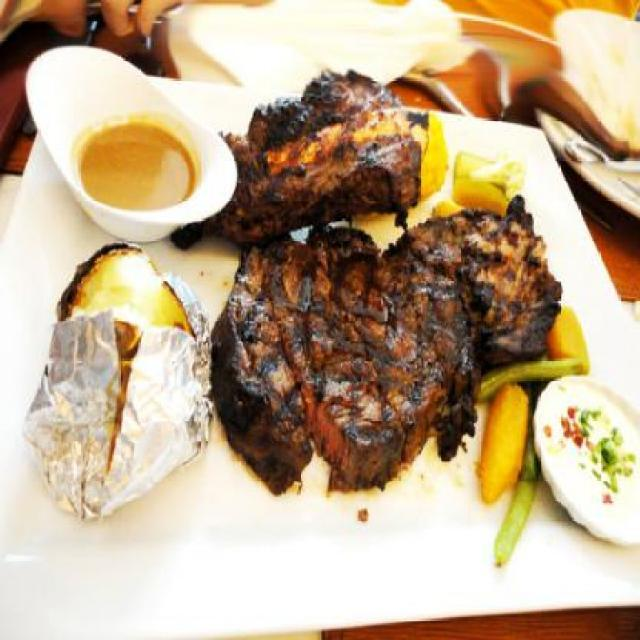Steak: (230, 91, 546, 484)
